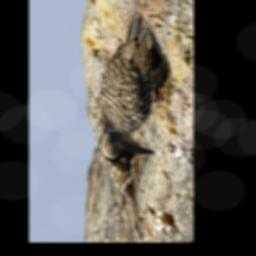Woodpecker: (98, 9, 170, 167)
